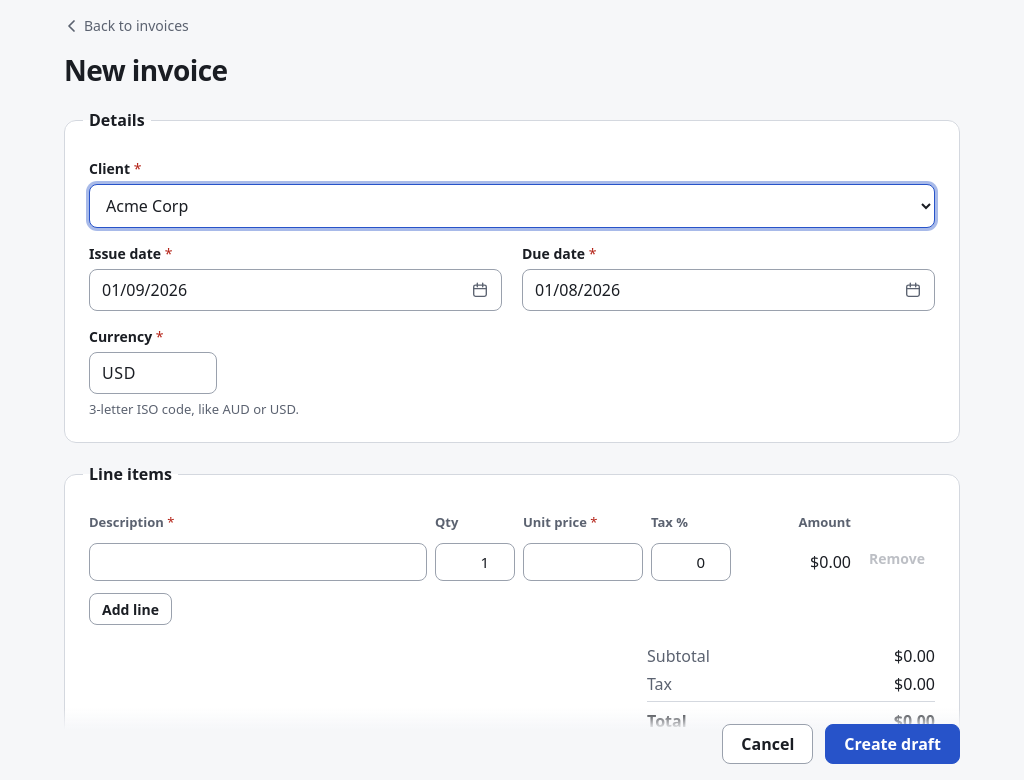
Test case: InvoiceForm › rejects a due date before the issue date
Click the button "Create draft": [893, 744] box [825,724,960,764]
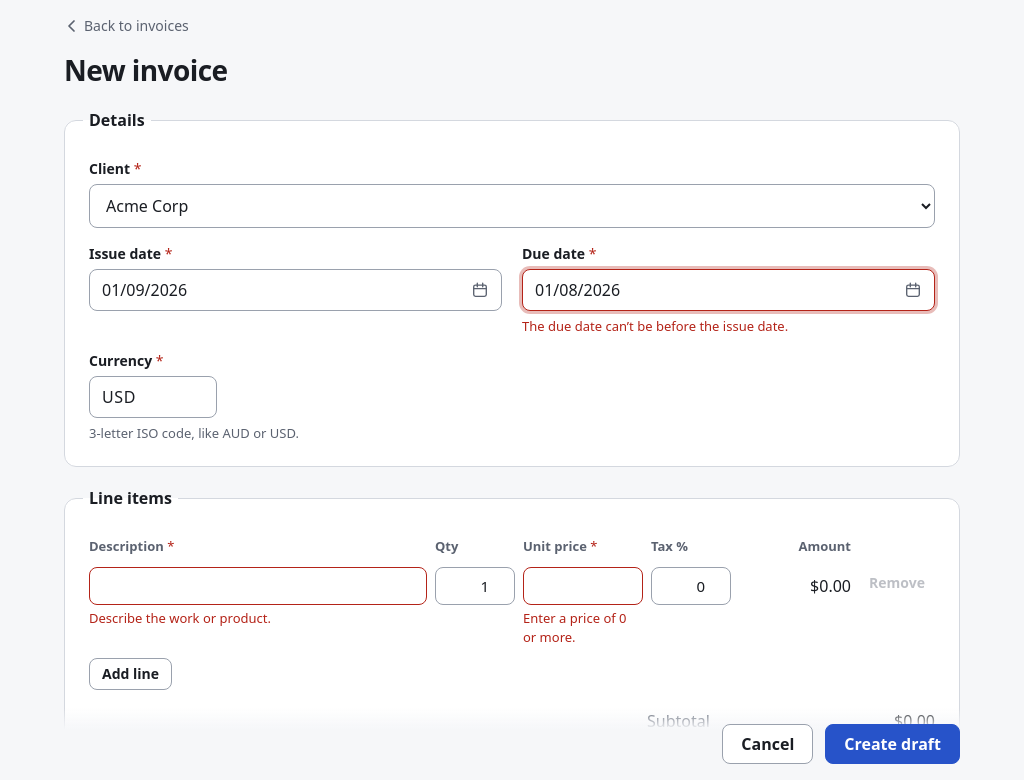
Expected: the text "The due date can’t be before the issue date." is shown, [522,317,788,335]
